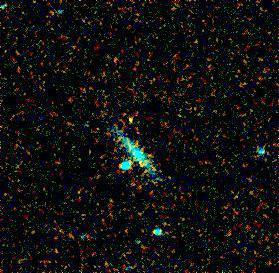star: (120, 107, 150, 137)
